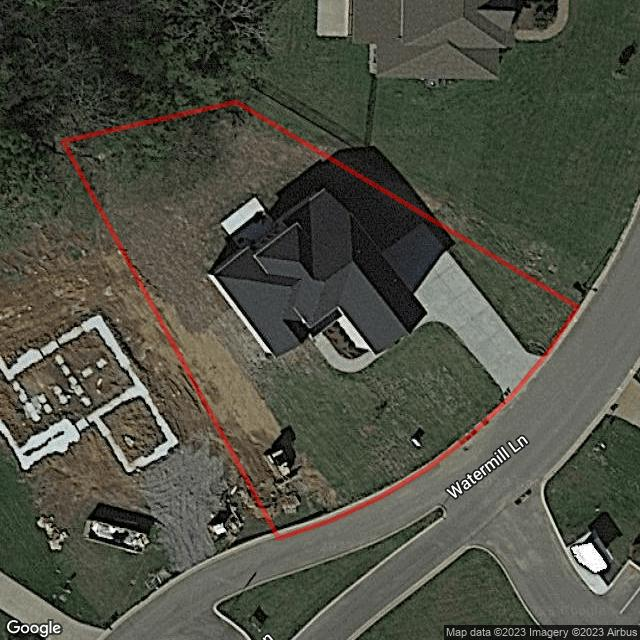Driveway: (383, 220, 539, 395), (313, 332, 378, 372)
House: (207, 189, 428, 361)
Other: (264, 450, 296, 481)
